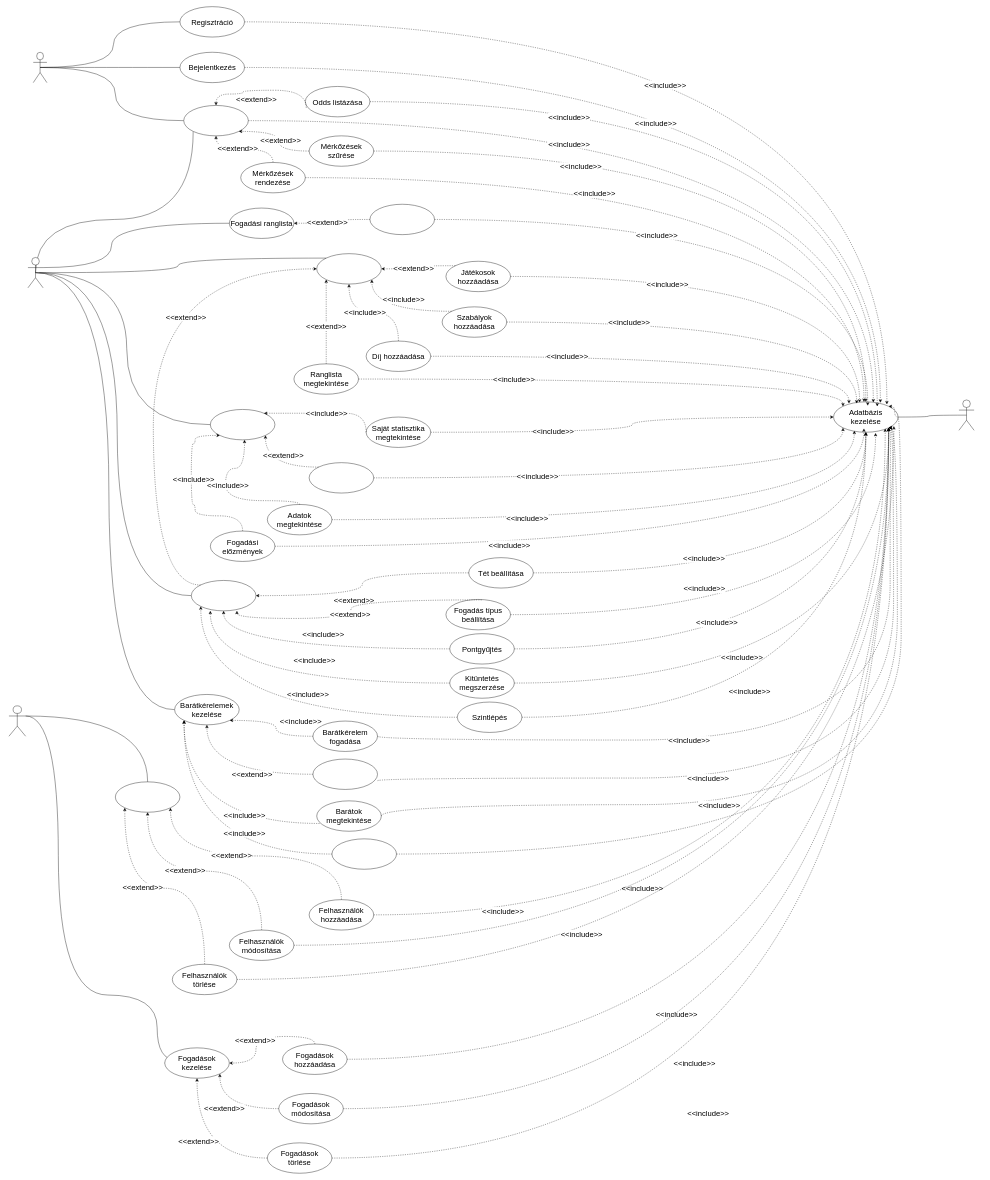
Some shapes in this 990 by 1180 pixel diagram are drawn without their labels. The centre of each missing label's shape, as x and y in pixels:
"Adatbázis" belongs at [966,415].
"Adatok módosítása" belongs at [341,477].
"Admin" belongs at [17,720].
"Bajnokság kezelése" belongs at [348,268].
"Barátkérelem küldése" belongs at [345,774].
"Barátok törlése" belongs at [364,853].
"Felhasználó" belongs at [35,272].
"Felhasználók kezelése" belongs at [147,796].
"Fogadás tétele" belongs at [223,595].
"Látogató" belongs at [40,67].
"Mérkőzések listázás" belongs at [215,120].
"Profil kezelése" belongs at [242,424].
"Profil megtekintése" belongs at [402,219].
